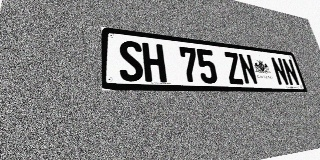5: (196, 48, 219, 84)
7: (178, 46, 201, 83)
H: (142, 42, 167, 82)
N: (237, 53, 259, 85), (270, 57, 290, 86), (281, 58, 300, 86)
S: (118, 40, 144, 82)
Z: (223, 51, 245, 84)
